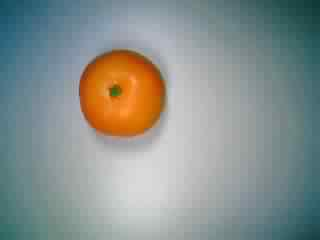orange: (74, 45, 169, 139)
